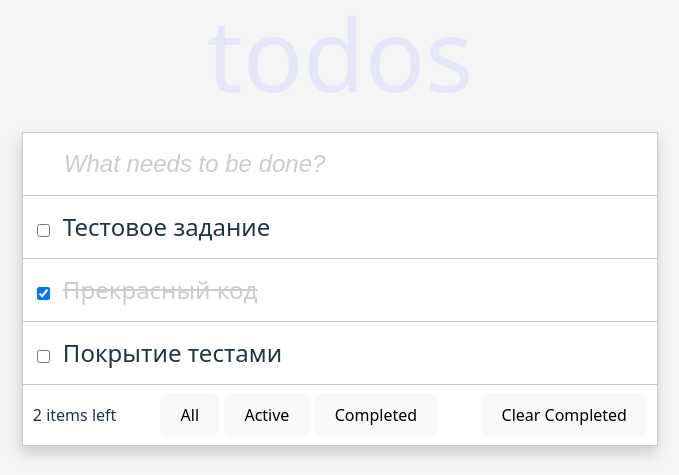
Test case: App Component › фильтрует задачи
Expected: the text "Тестовое задание" is shown, [63,209,270,245]
Проверяем Active
Click the button "Active" at (267, 415), box [224,393,310,437]
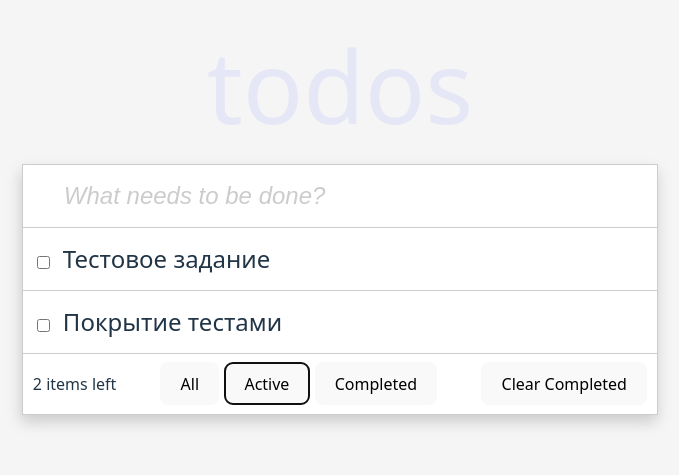
Expected: the text "Тестовое задание" is shown, [63,240,270,276]
Result: the text "Прекрасный код" is gone
Проверяем Completed
Click the button "Completed" at (376, 384), box [315,362,437,405]
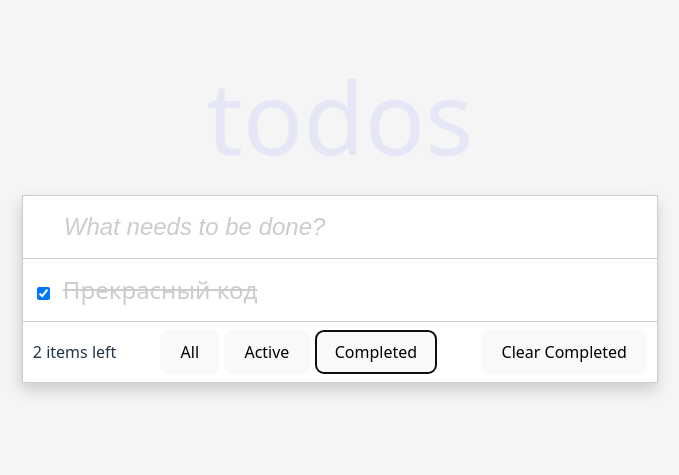
Result: the text "Прекрасный код" is shown at [63,272,257,308]
Result: the text "Тестовое задание" is gone
Result: the text "Покрытие тестами" is gone
